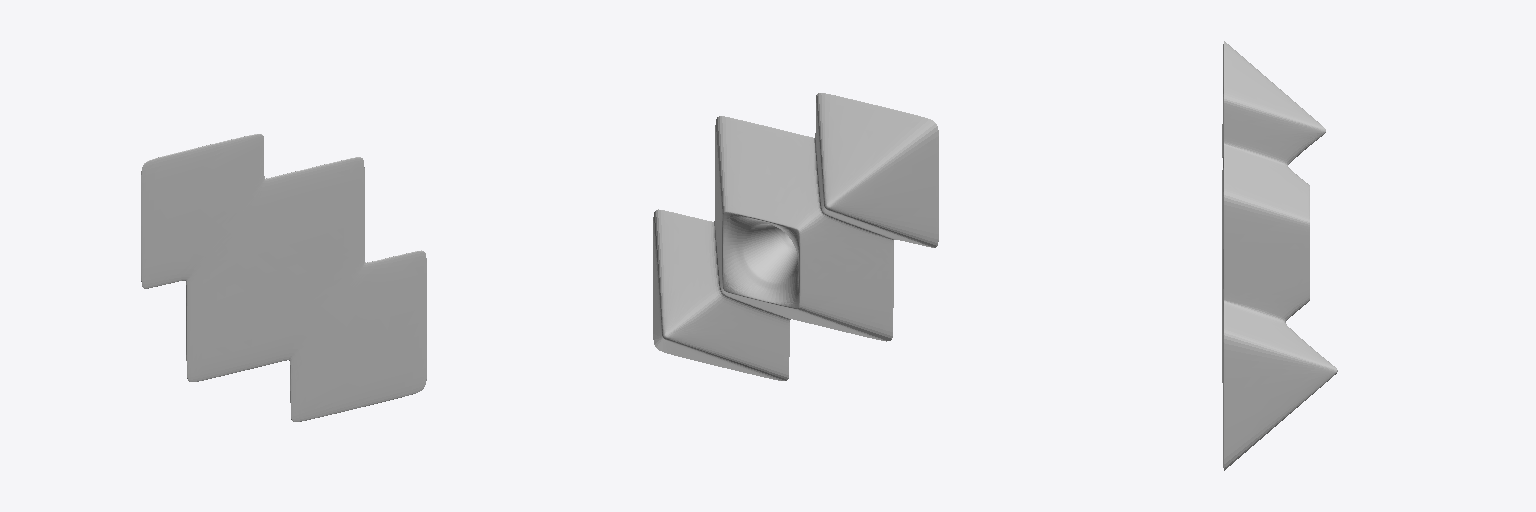
The model's file is piramid1.obj.
The picture shows the model from 3 angles: view 1: azimuth 30°, elevation 25°; view 2: azimuth 150°, elevation 25°; view 3: azimuth 270°, elevation 25°; orthographic projection.
Parts seen in each view (by area): view 1: _Great_Pyramids; view 2: _Great_Pyramids; view 3: _Great_Pyramids.
Boxes of the visible parts, x1,y1,x2,y2 form: _Great_Pyramids: [141, 134, 426, 421]; _Great_Pyramids: [653, 93, 938, 380]; _Great_Pyramids: [1222, 41, 1337, 470].
Size of the model in its own units: 3.95 by 3.95 by 1.38.